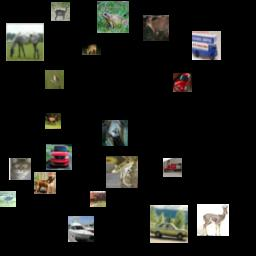automobile: (150, 205, 188, 243), (46, 144, 72, 170), (173, 73, 192, 92)
bird: (45, 70, 64, 89), (0, 191, 16, 207)
cat: (9, 158, 31, 180)
deer: (197, 204, 229, 236), (143, 15, 169, 41), (82, 36, 101, 55), (51, 2, 70, 21), (45, 113, 61, 129)
dog: (102, 120, 128, 146), (34, 172, 56, 194)
frog: (106, 156, 138, 188), (97, 1, 129, 33)
ship: (68, 216, 94, 242)
truck: (192, 31, 221, 60), (163, 158, 182, 177)
